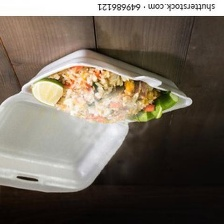foam_box: (0, 43, 199, 199)
